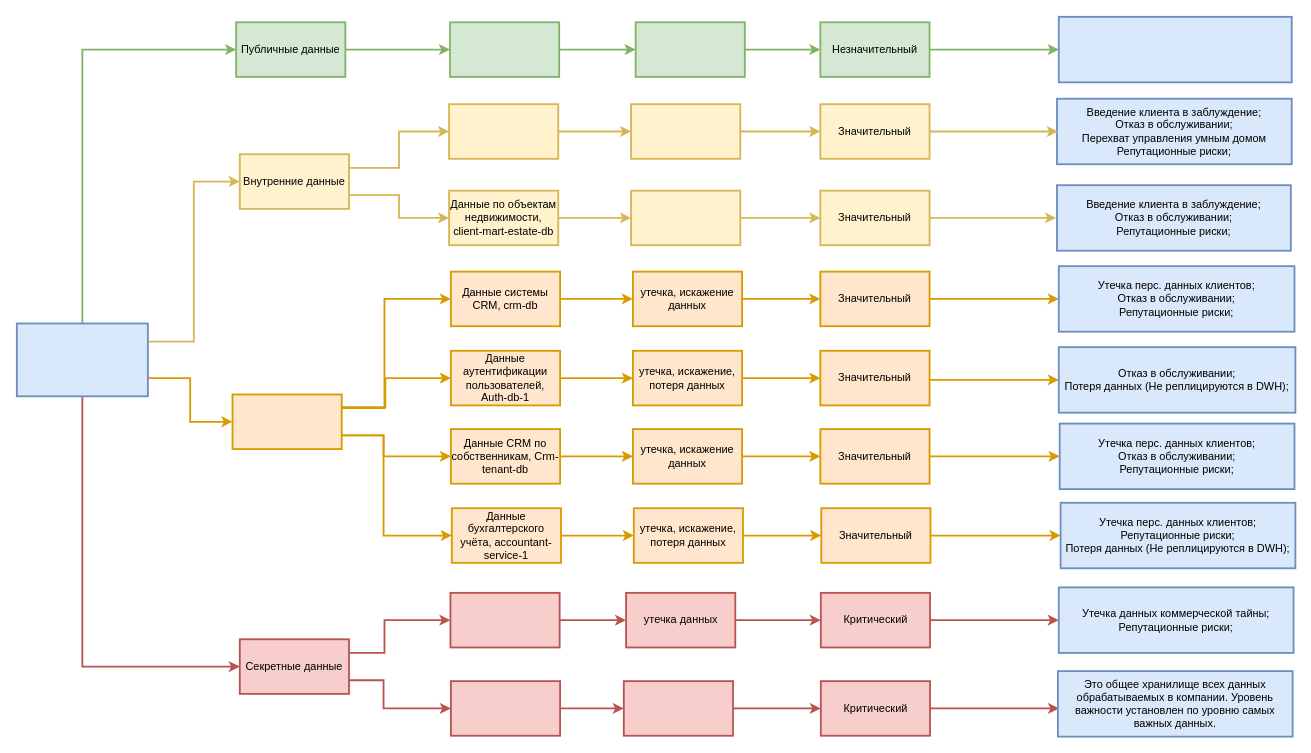
The diagram is 1311 pixels wide and 753 high, and some of its shapes have lost their labels. The box of each missing label's shape, as (x1, y1, x2, y2) in pixels:
Безопасность данных: (15, 322, 148, 397)
Введение клиента в заблуждение; Потеря данных (Не реплицируются в DWH);: (1057, 15, 1292, 83)
Данные DWH Хранилища: (450, 680, 561, 736)
Данные для проведения онлайн-тура, Client-tour-db: (449, 21, 560, 77)
Данные по услугам ЖКХ для собственников, tenant-core-db: (448, 103, 559, 159)
Инфо об объектах недвижимости и сделках по ним, Client-mart-db: (449, 592, 560, 648)
искажение, потеря данных, некачественные данные;: (634, 21, 745, 77)
Конфиденциальные данные: (231, 393, 342, 450)
утечка , искажение данных;: (630, 103, 741, 159)
утечка, обесценивание, искажение данных;: (630, 189, 741, 246)
утечка; потеря; искажение данных: (622, 680, 733, 736)
